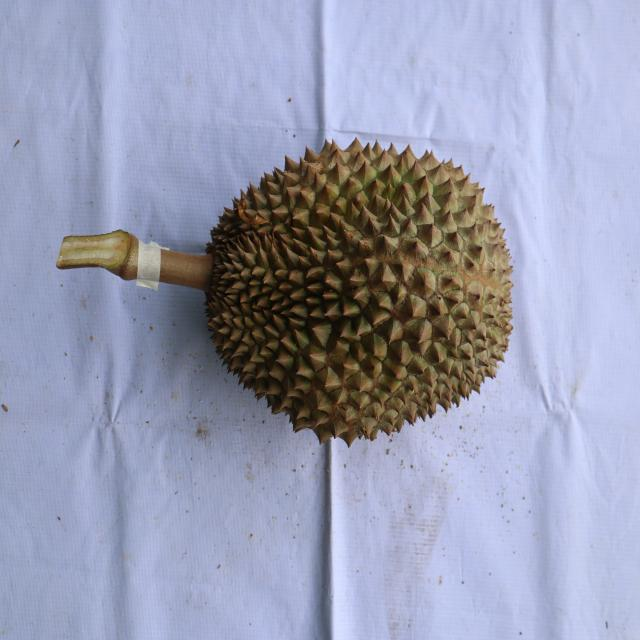mature: (205, 136, 516, 451)
